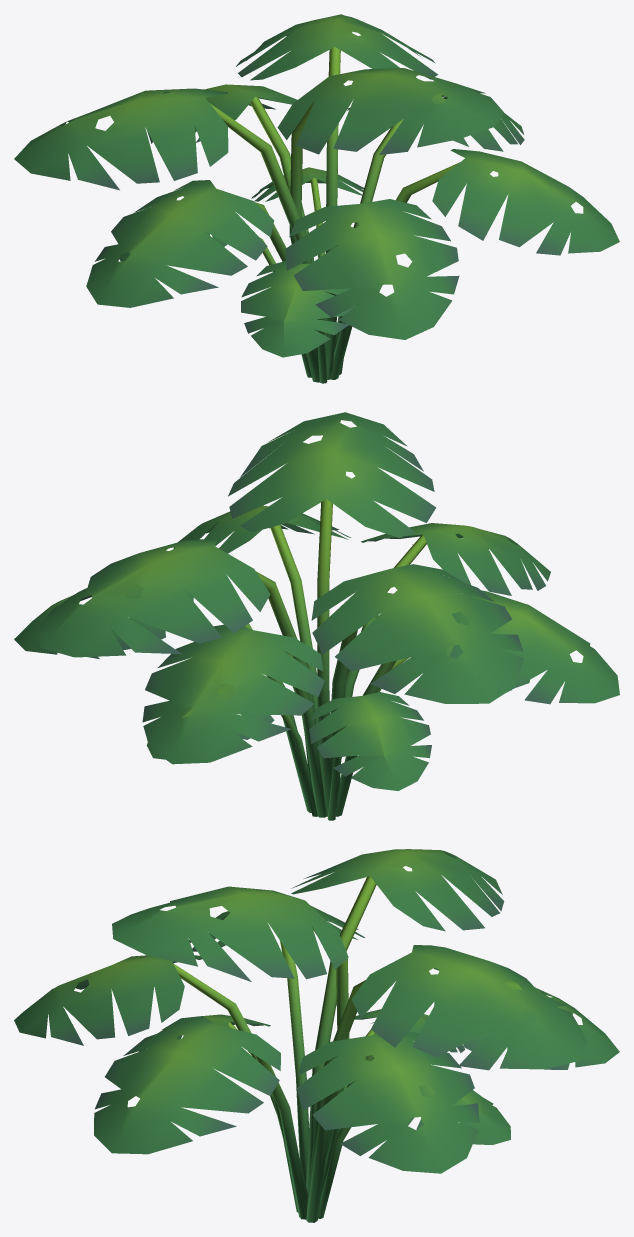
Rendered from plant_07.fbx.
The picture shows the model from 3 angles, top to bottom: view 1: azimuth 30°, elevation 25°; view 2: azimuth 150°, elevation 25°; view 3: azimuth 270°, elevation 25°; orthographic projection. The views are drawn at different scales.
Parts seen in each view (by area): view 1: plant_07; view 2: plant_07; view 3: plant_07.
Boxes of the visible parts, x1,y1,x2,y2 form: plant_07: [14, 14, 619, 383]; plant_07: [14, 412, 619, 820]; plant_07: [14, 849, 619, 1222].
Bounding box in the file's own units: 7.4 × 4.57 × 7.5.
